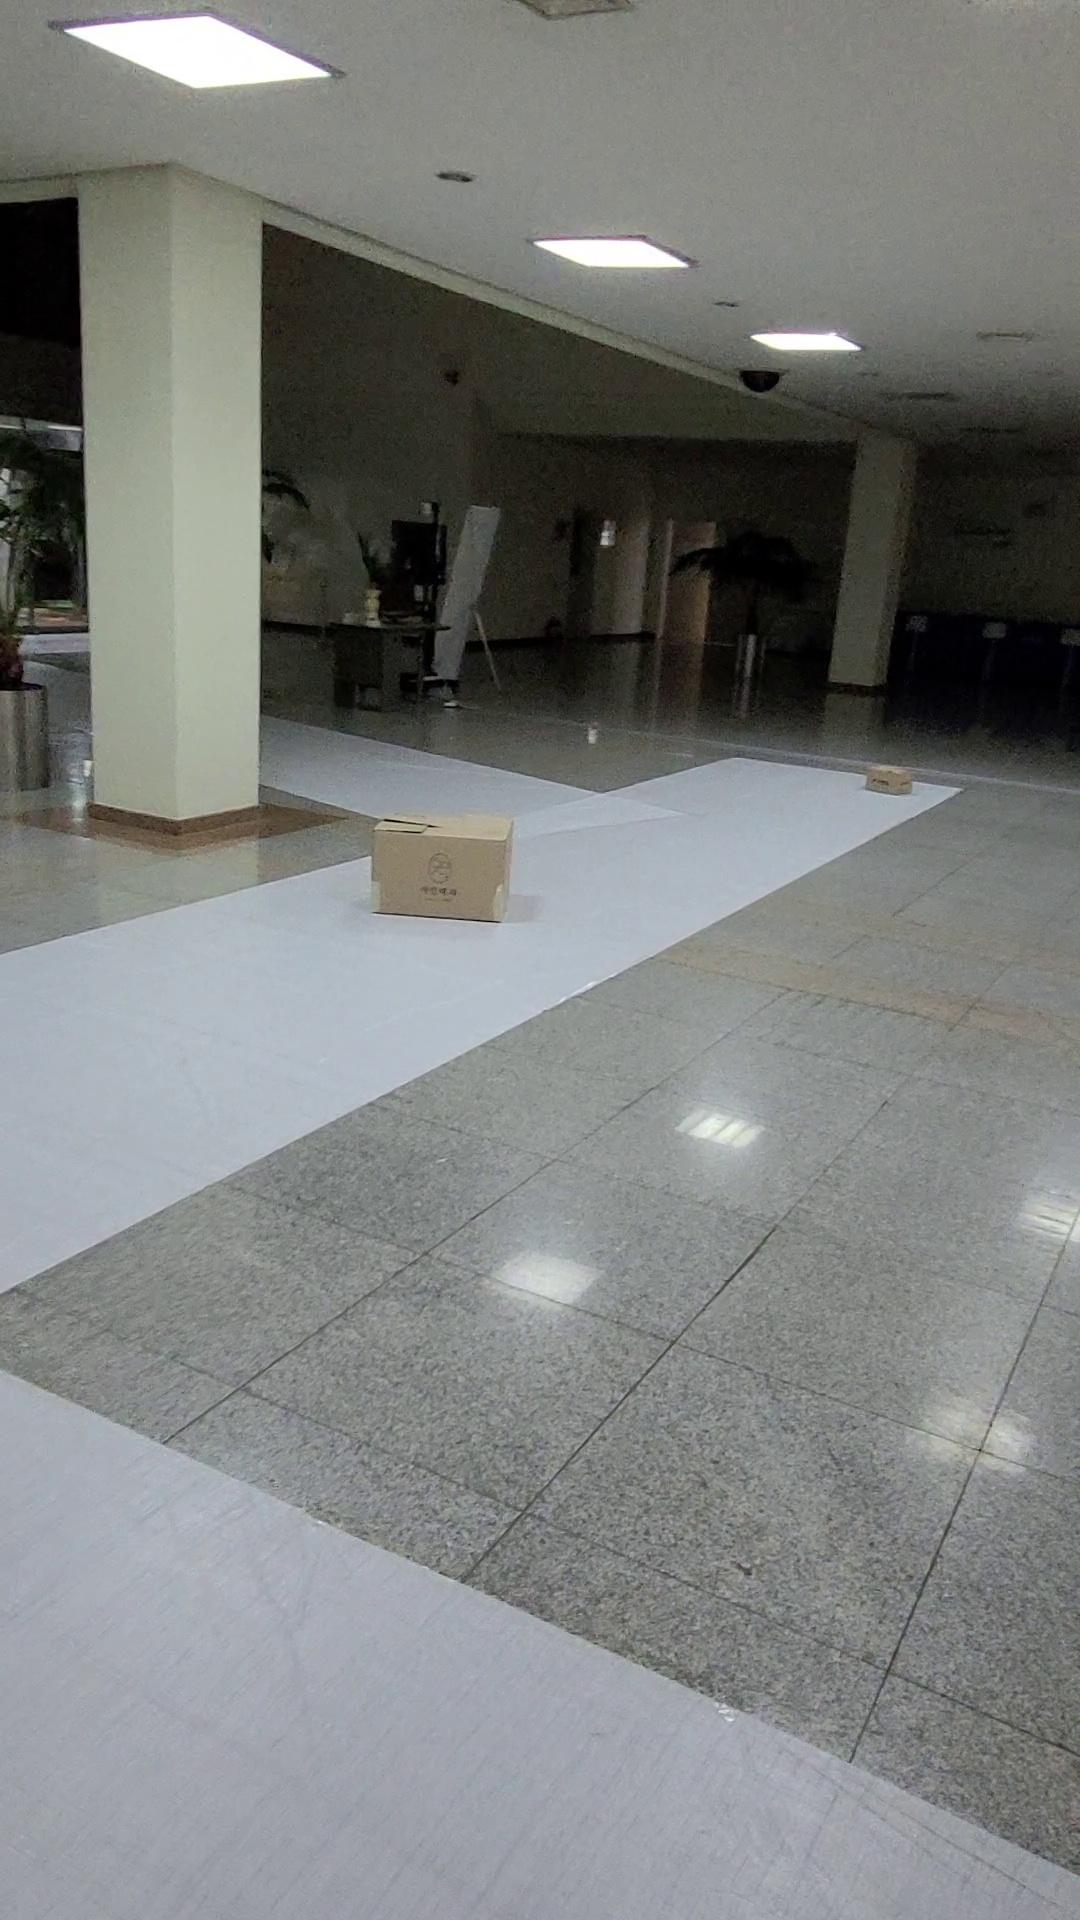Box: (356, 800, 543, 942), (851, 745, 924, 812)
